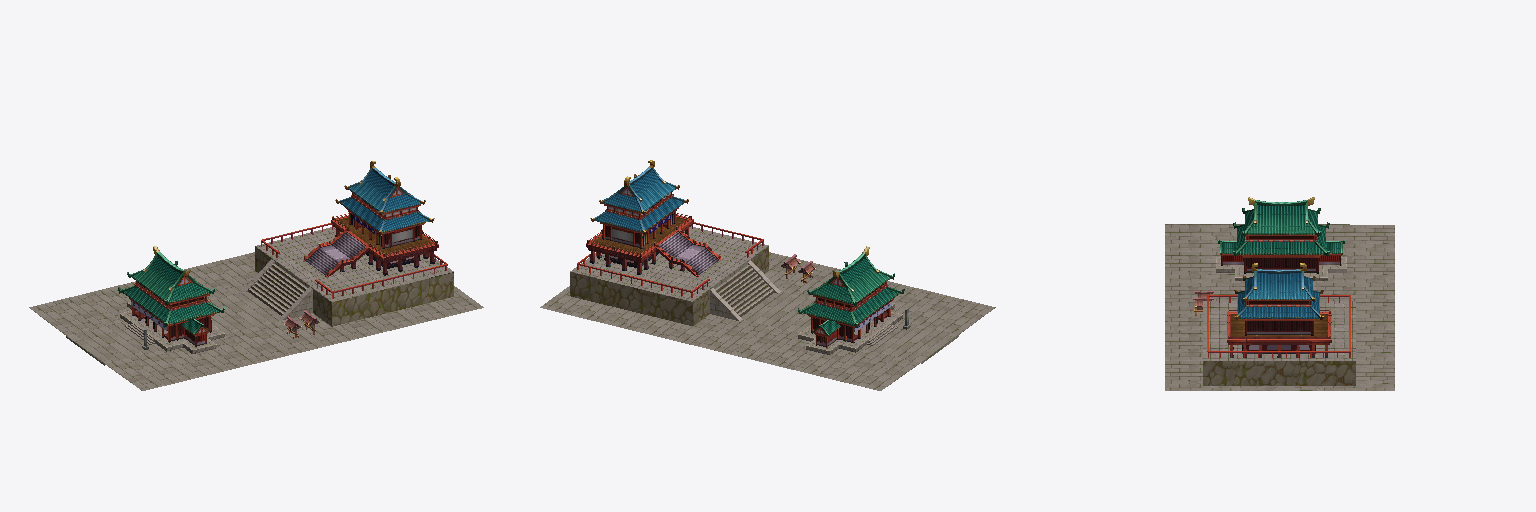
3 views of the same model, side by side, from view 1: azimuth 30°, elevation 25°; view 2: azimuth 150°, elevation 25°; view 3: azimuth 270°, elevation 25° (orthographic).
Parts seen in each view (by area): view 1: S_Zssdd; view 2: S_Zssdd; view 3: S_Zssdd.
Boxes of the visible parts, x1=… form: S_Zssdd: x1=29, y1=161, x2=483, y2=390; S_Zssdd: x1=540, y1=160, x2=995, y2=390; S_Zssdd: x1=1165, y1=197, x2=1394, y2=390.
Size of the model in its own units: 5833 by 1797 by 3381.
Materials: 17 (16 with a texture image).